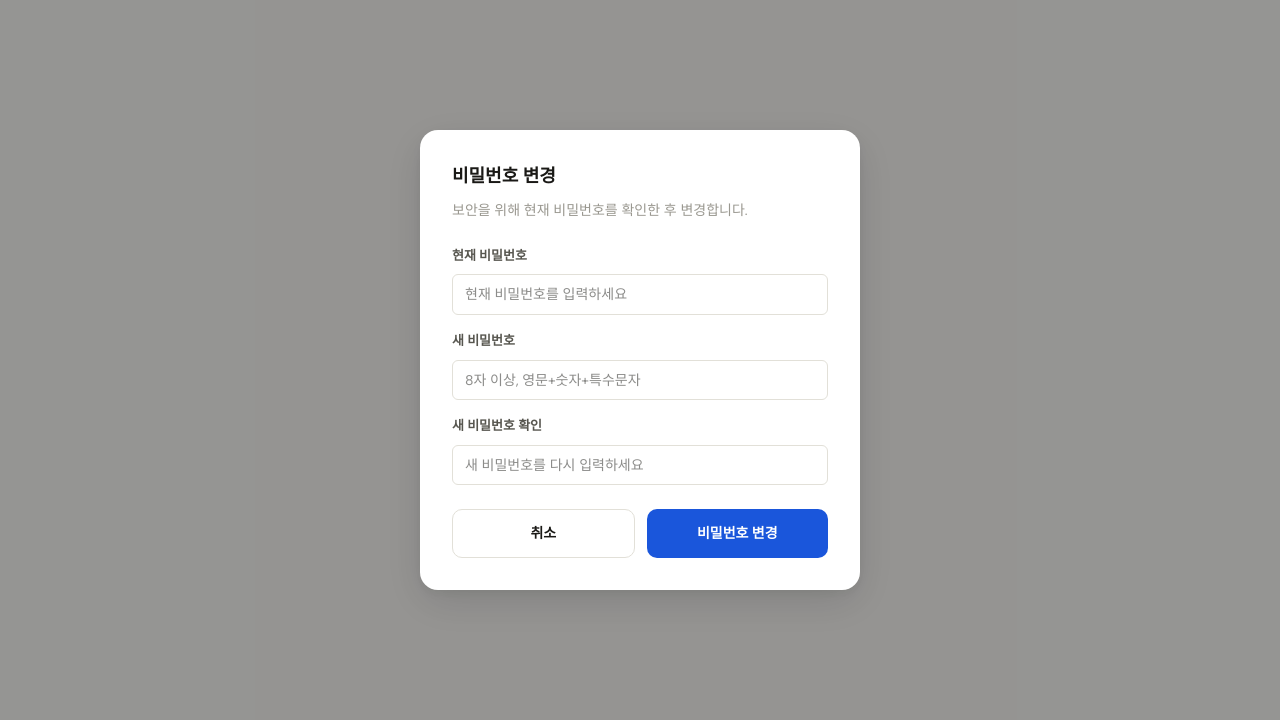
Scenario: PasswordChangeModal › 새 비밀번호와 확인이 불일치할 때 에러 메시지가 표시된다
Type "OldPass123!" into the password field labelled "현재 비밀번호" at (640, 295), box x1=452 y1=274 x2=828 y2=315
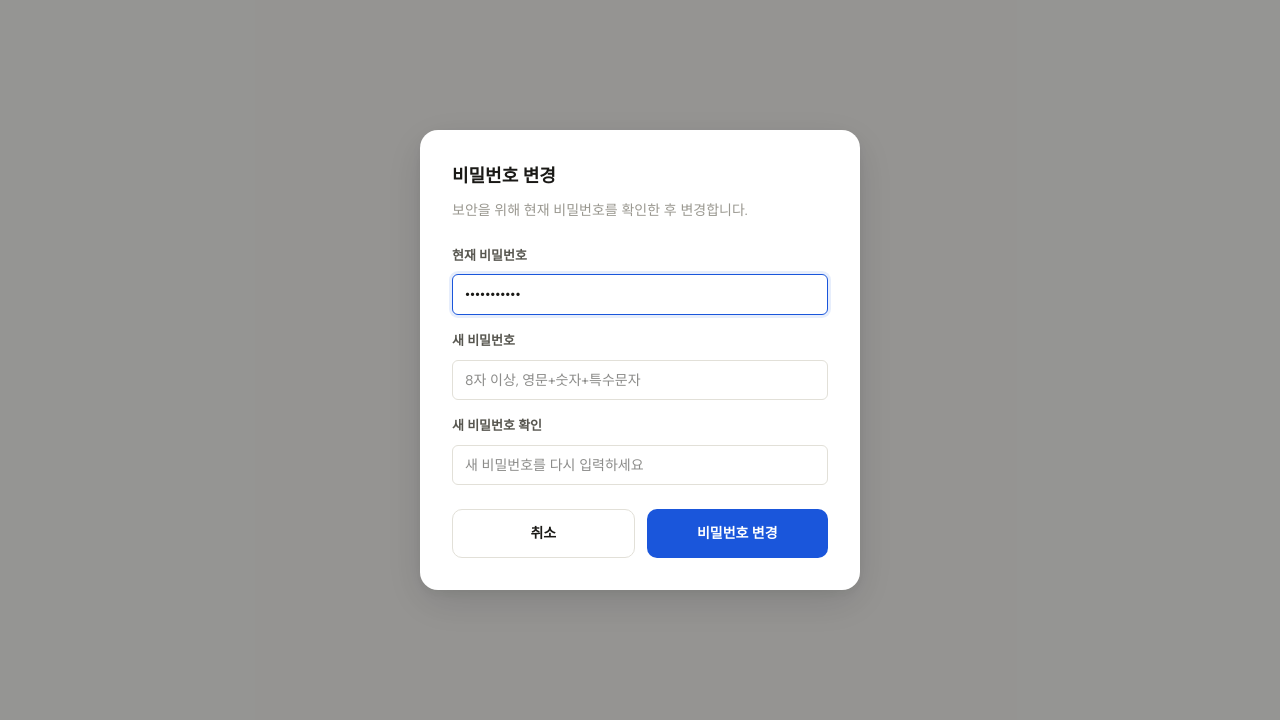
Type "NewPass123!" into the password field labelled "새 비밀번호" at (640, 380), box x1=452 y1=360 x2=828 y2=400
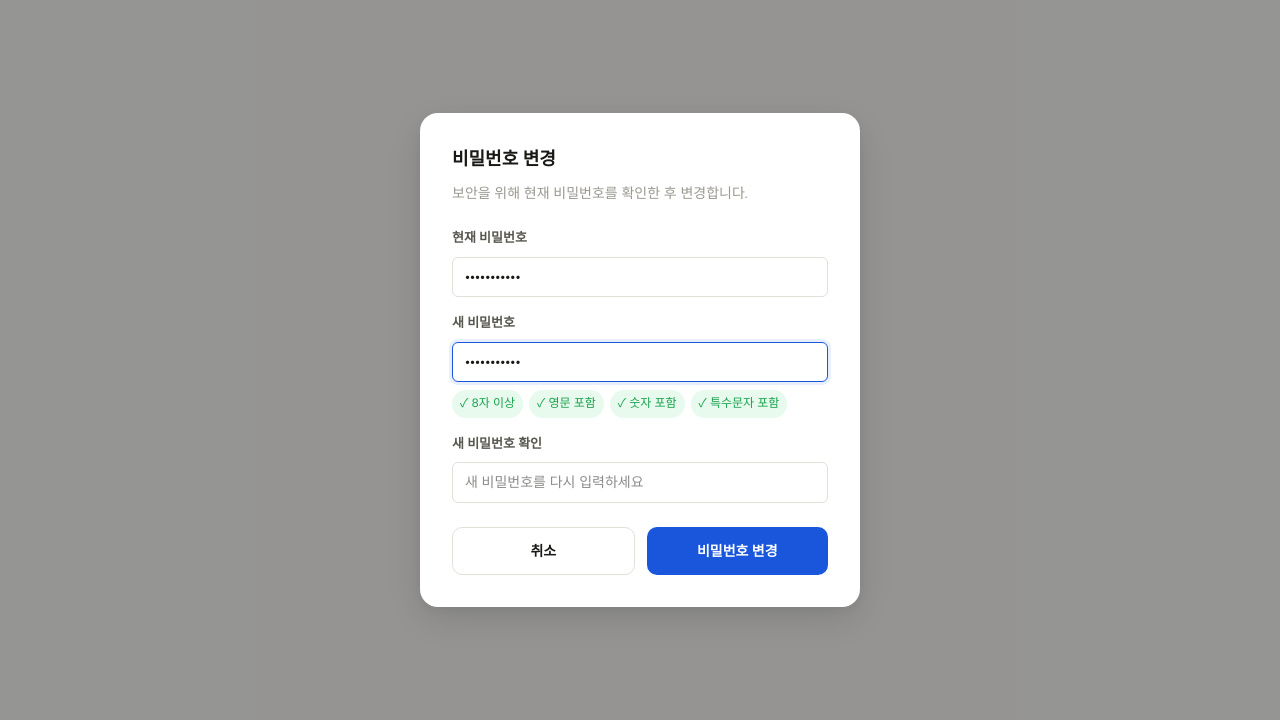
Type "DifferentPass123!" into the password field labelled "새 비밀번호 확인" at (640, 483), box x1=452 y1=462 x2=828 y2=503
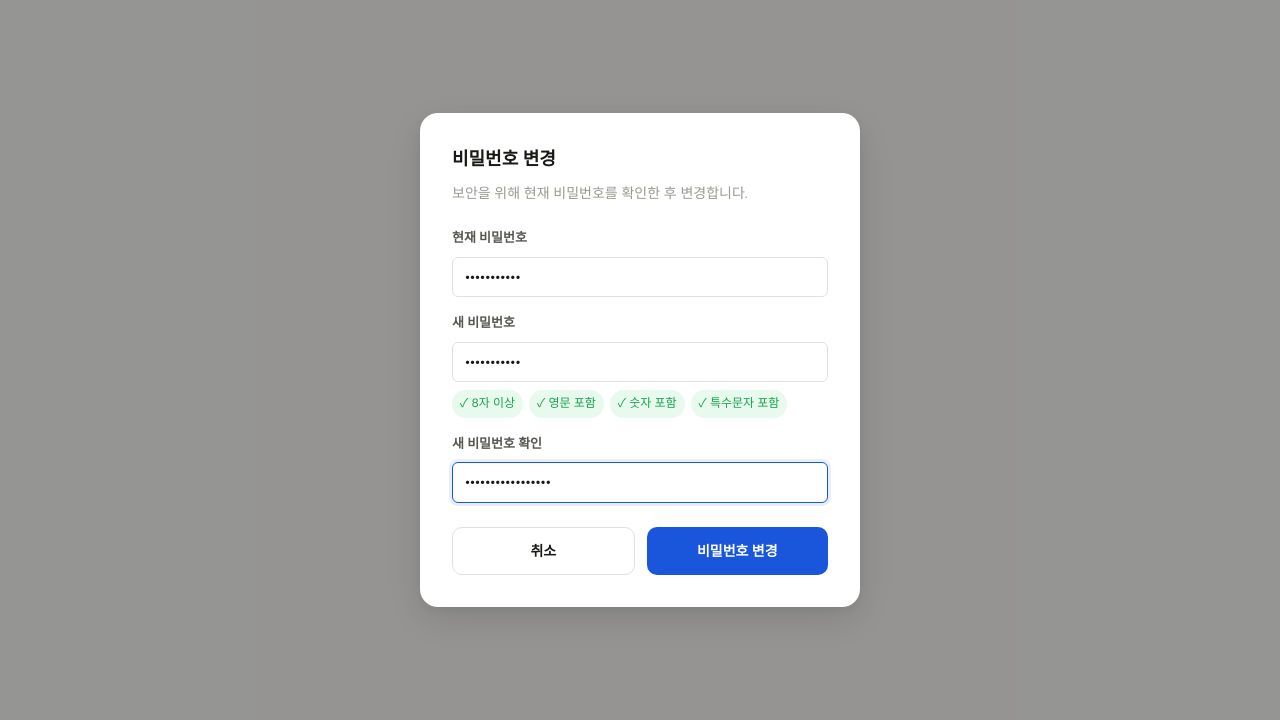
Click the button "비밀번호 변경" at (737, 551), box x1=646 y1=527 x2=828 y2=575
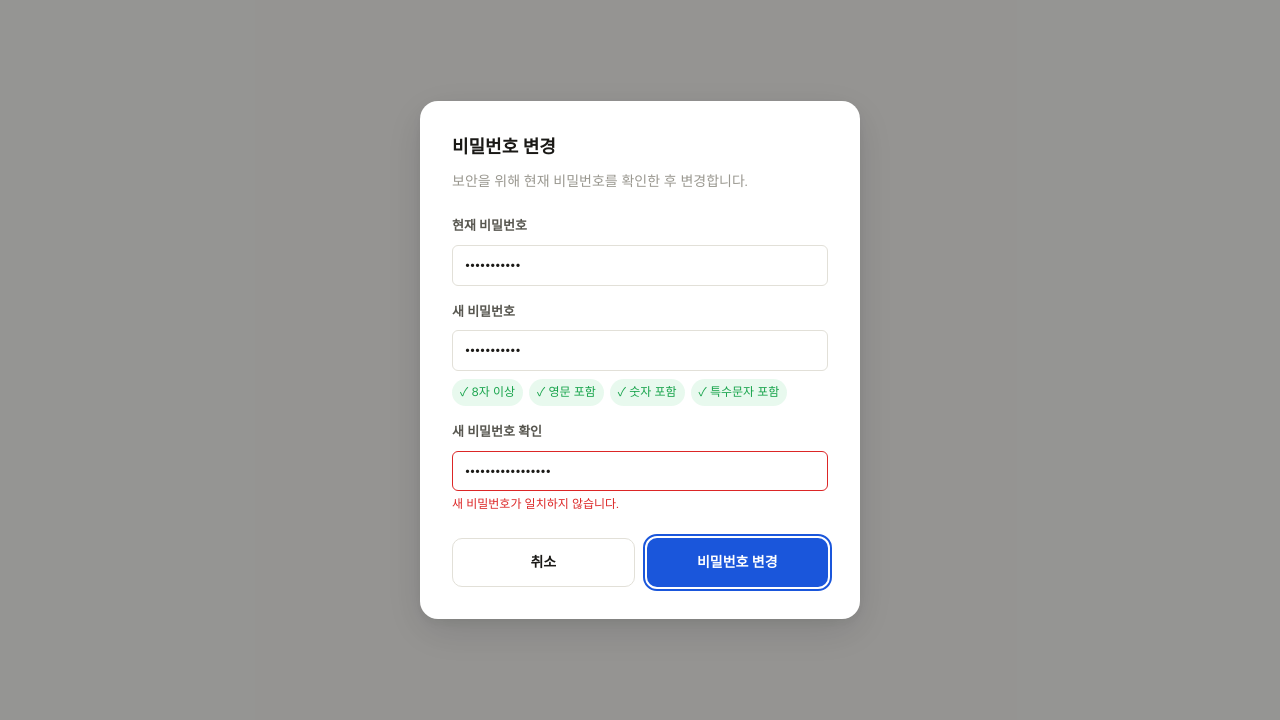
Now the text "새 비밀번호가 일치하지 않습니다." is shown, box x1=452 y1=496 x2=618 y2=512
